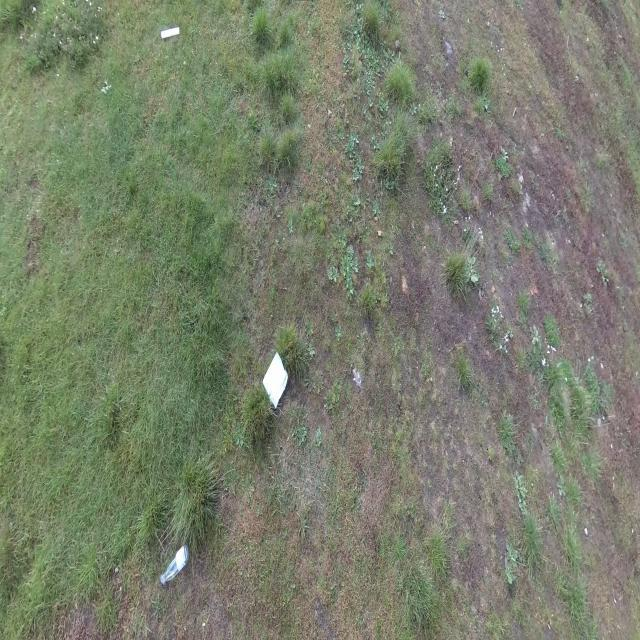rubbish: (261, 349, 290, 410), (160, 543, 189, 585), (160, 26, 180, 38)
